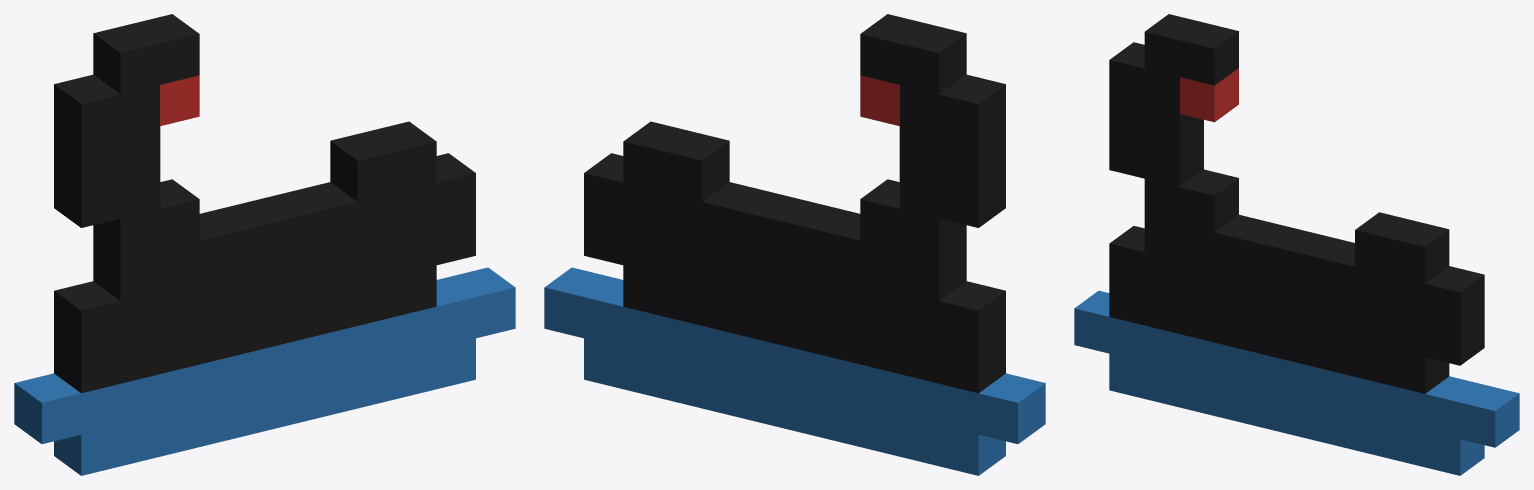
Rendered from magnet_swan.glb.
3 renders of one model, left to right at view 1: azimuth 30°, elevation 25°; view 2: azimuth 150°, elevation 25°; view 3: azimuth 330°, elevation 25°, orthographic. The views are drawn at different scales.
Visible parts, largest first — view 1: Magnet_swan; view 2: Magnet_swan; view 3: Magnet_swan.
Boxes of the visible parts, bbox=[...] form: Magnet_swan: bbox=[14, 14, 515, 475]; Magnet_swan: bbox=[544, 14, 1045, 475]; Magnet_swan: bbox=[1074, 14, 1519, 475].
Size of the model in its own units: 0.06 by 0.05 by 0.006.
1 material, 1 textured.
